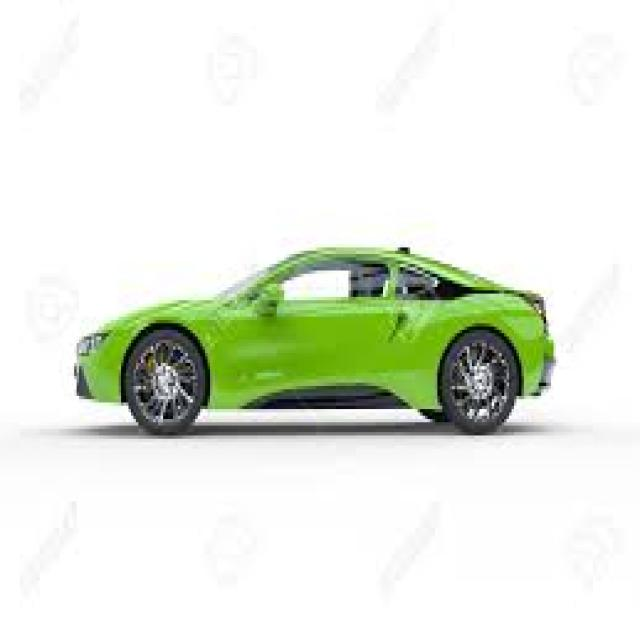Car: (72, 241, 556, 435)
